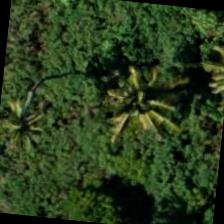Kelapa_Sawit: (76, 48, 175, 147)
